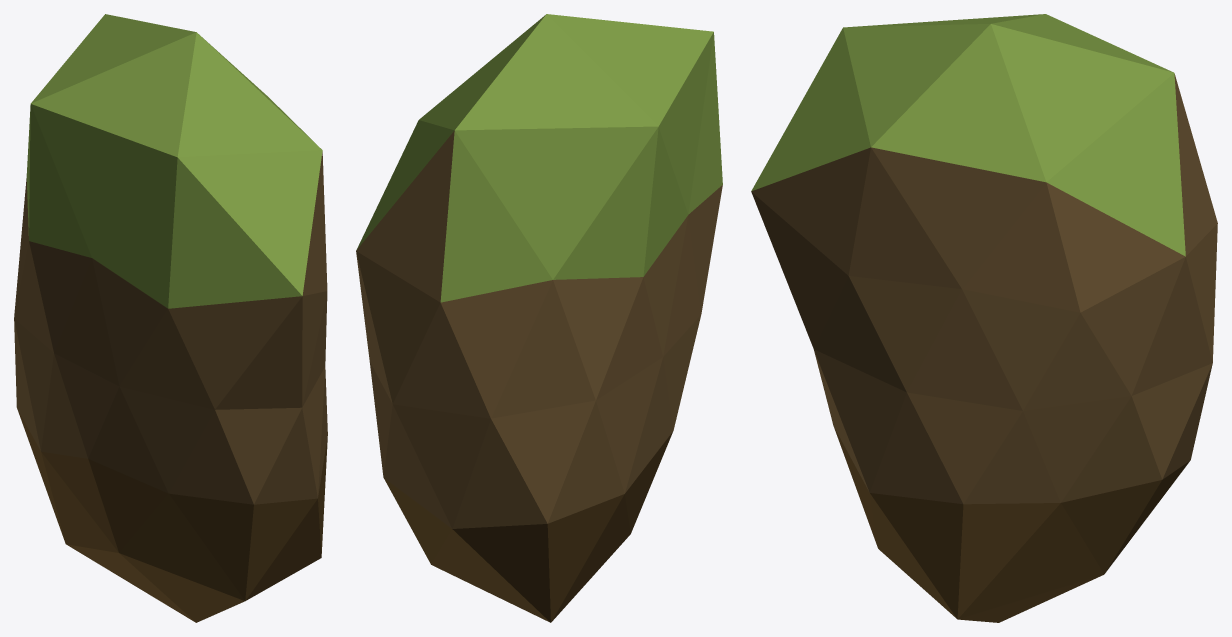
File: rock2.glb
The picture shows the model from 3 angles, left to right: view 1: azimuth 30°, elevation 25°; view 2: azimuth 150°, elevation 25°; view 3: azimuth 270°, elevation 25°; orthographic projection.
Parts seen in each view (by area): view 1: Icosphere.009; view 2: Icosphere.009; view 3: Icosphere.009.
Part boxes in pixels (bbox=[...]): Icosphere.009: bbox=[14, 14, 327, 622]; Icosphere.009: bbox=[356, 14, 722, 622]; Icosphere.009: bbox=[751, 14, 1217, 622].
Size of the model in its own units: 2.46 by 5.34 by 3.78.
